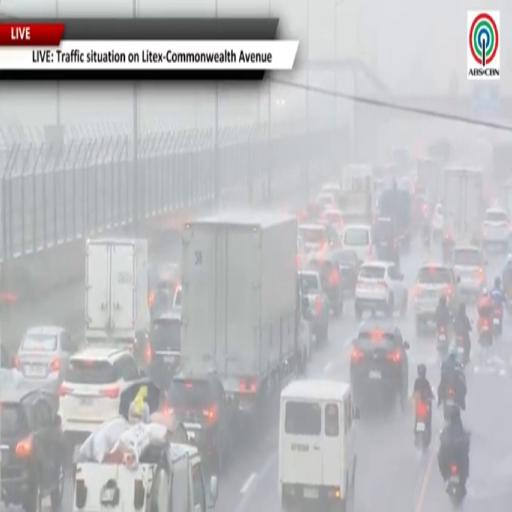car: (59, 345, 147, 450), (0, 380, 64, 511), (168, 373, 235, 474), (350, 320, 409, 409), (16, 326, 77, 382), (415, 264, 460, 333), (355, 262, 407, 318), (149, 311, 181, 388), (298, 270, 330, 345), (306, 252, 343, 316), (454, 246, 486, 298), (149, 263, 180, 316), (330, 249, 359, 296), (342, 224, 374, 263), (373, 217, 399, 265), (483, 207, 511, 249), (298, 223, 338, 252), (321, 208, 344, 236), (432, 204, 444, 239), (316, 192, 336, 212), (0, 345, 14, 370), (297, 235, 306, 270), (172, 284, 182, 311), (322, 183, 342, 195)
motorcycle: (415, 397, 431, 452), (447, 464, 465, 506), (444, 387, 459, 420), (456, 334, 468, 367), (479, 317, 492, 346), (442, 235, 455, 263), (437, 325, 449, 353), (493, 306, 503, 335), (504, 283, 511, 314), (422, 226, 431, 249)
truck: (181, 212, 307, 421), (73, 419, 217, 511), (86, 238, 150, 362), (444, 167, 485, 244), (379, 182, 412, 249), (339, 164, 374, 225), (417, 158, 443, 205)
